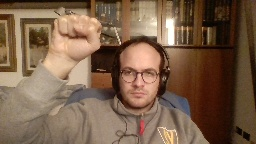Pugno: (48, 10, 103, 64)
